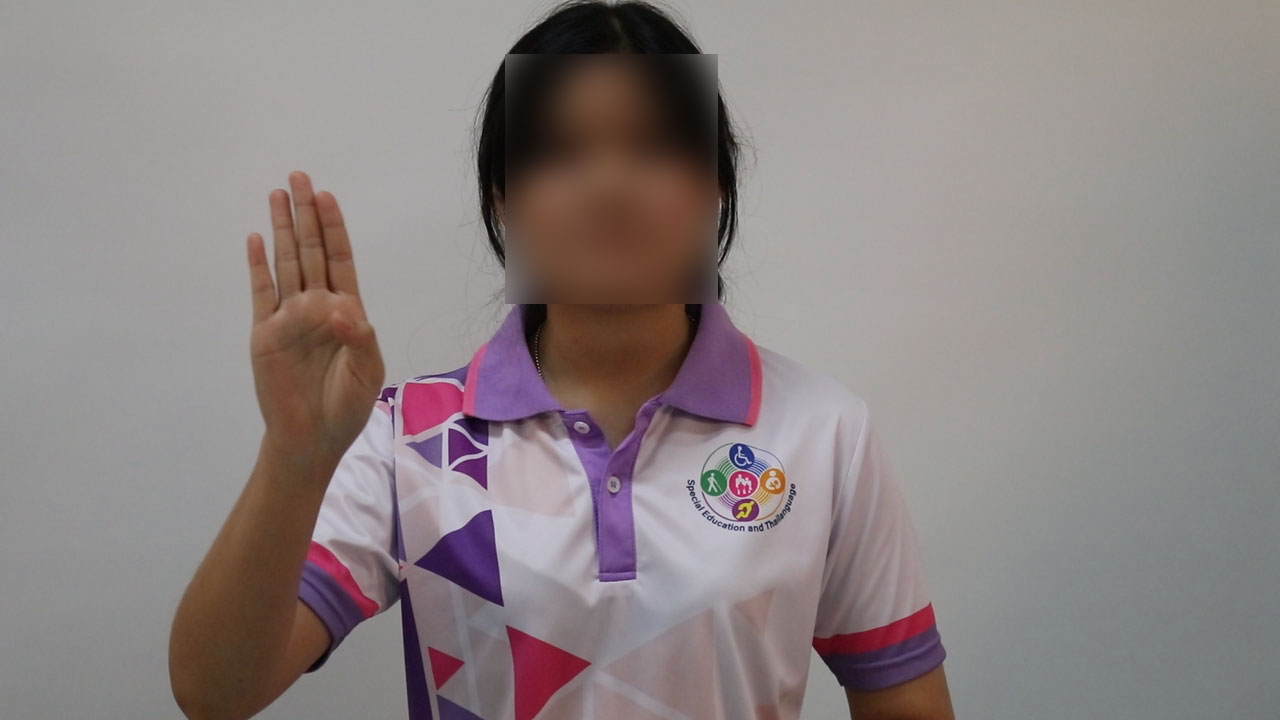bor: (231, 158, 406, 490)
